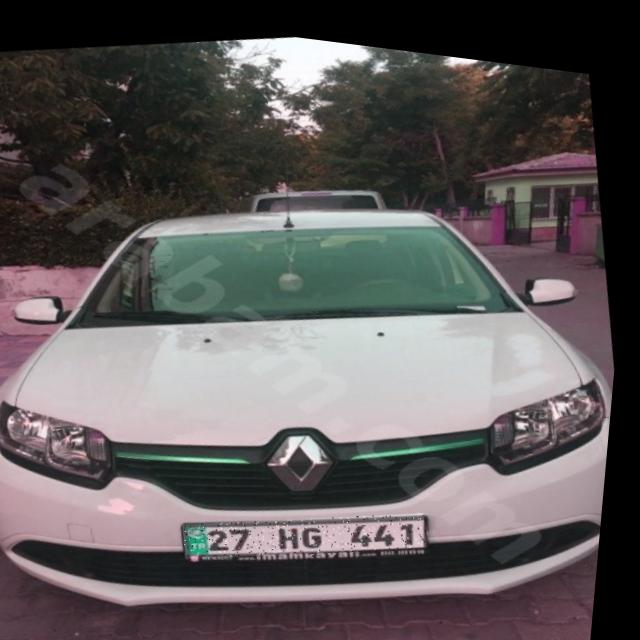license_plate: (189, 477, 438, 576)
